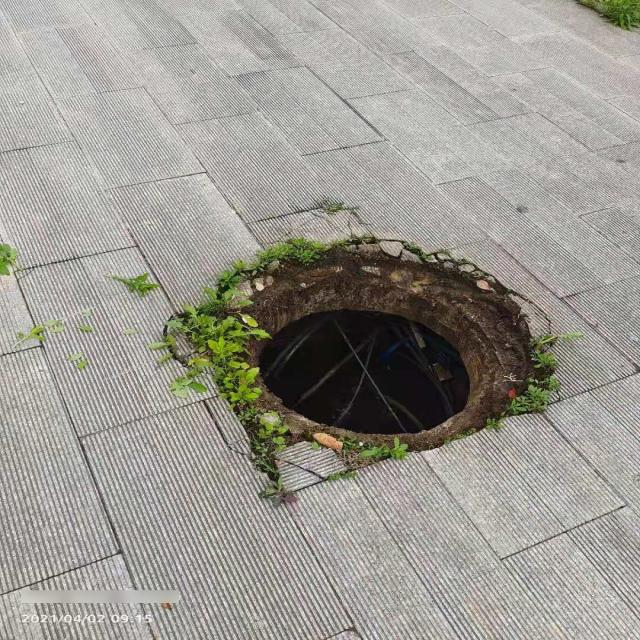Uncovered: (214, 253, 524, 454)
